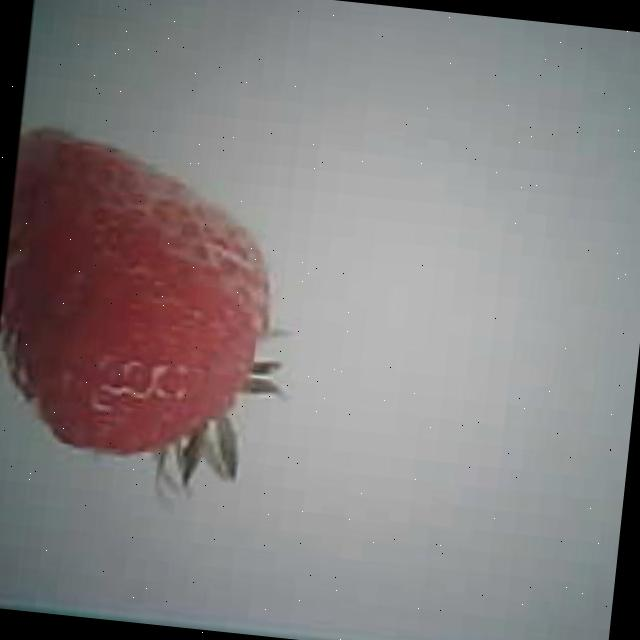strawberry: (0, 126, 279, 468)
